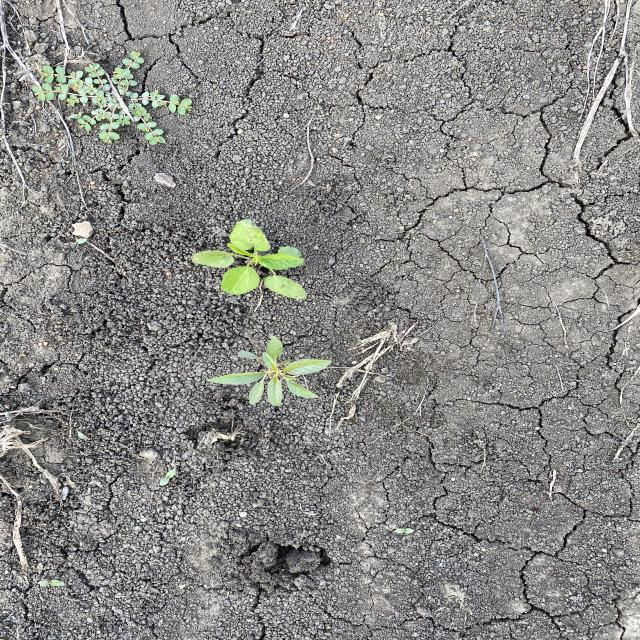PricklySida: (185, 217, 311, 304)
SpottedSpurge: (31, 48, 197, 148)
Waterhemp: (206, 334, 335, 408)
